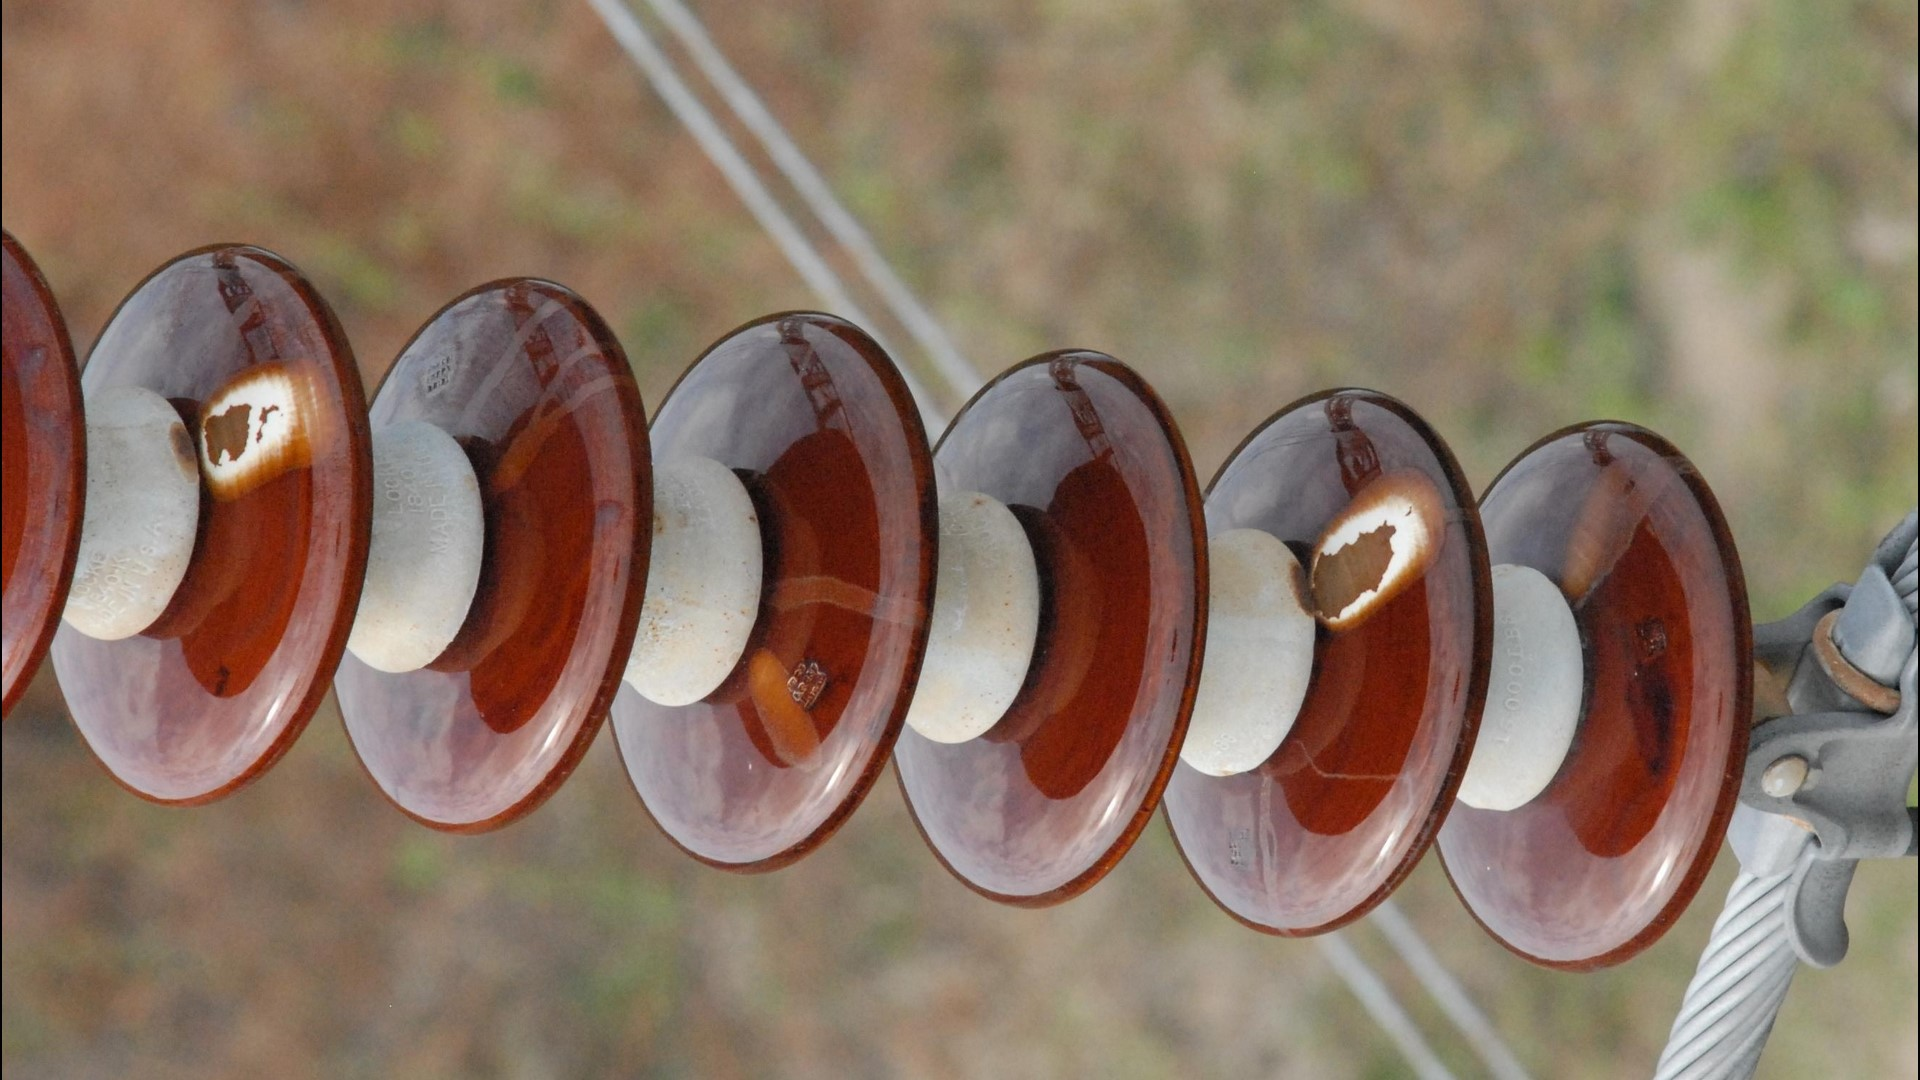Insulator flashover: (37, 232, 388, 823), (1145, 372, 1498, 944)
